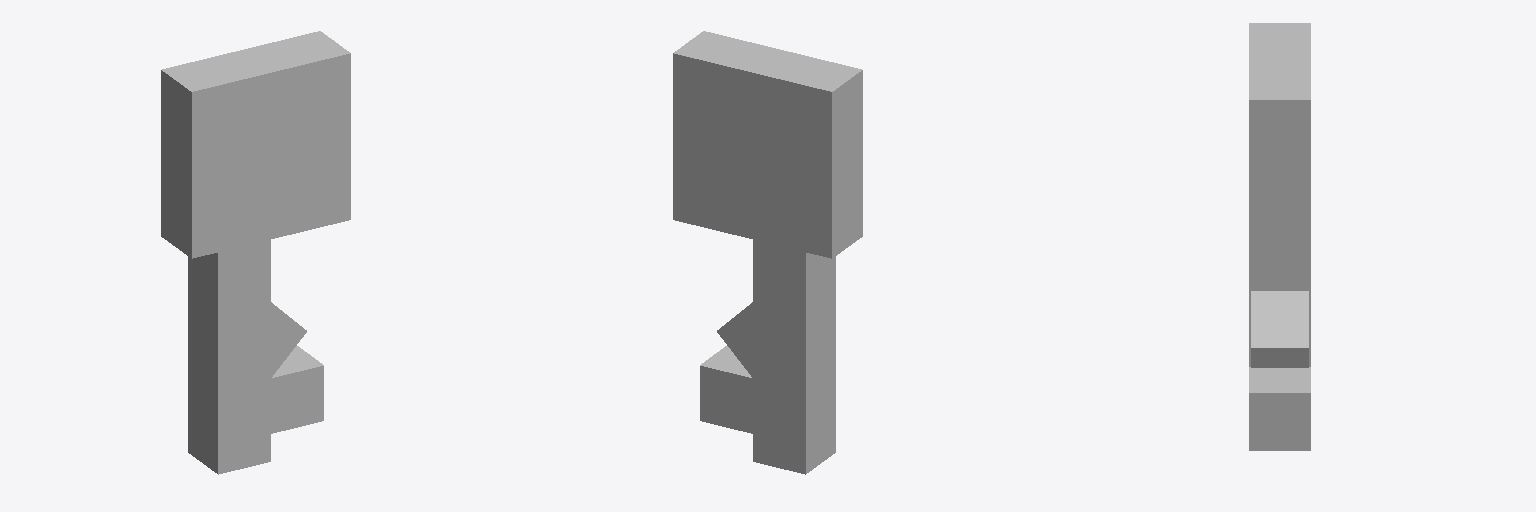
File: oasis_key.obj
The picture shows the model from 3 angles: view 1: azimuth 30°, elevation 25°; view 2: azimuth 150°, elevation 25°; view 3: azimuth 270°, elevation 25°; orthographic projection.
Parts seen in each view (by area): view 1: cube; view 2: cube; view 3: cube.
Part boxes in pixels (bbox=[...]): cube: bbox=[161, 31, 350, 474]; cube: bbox=[673, 31, 862, 474]; cube: bbox=[1249, 23, 1310, 450].
Size of the model in its own units: 0.1875 by 0.4375 by 0.0625.